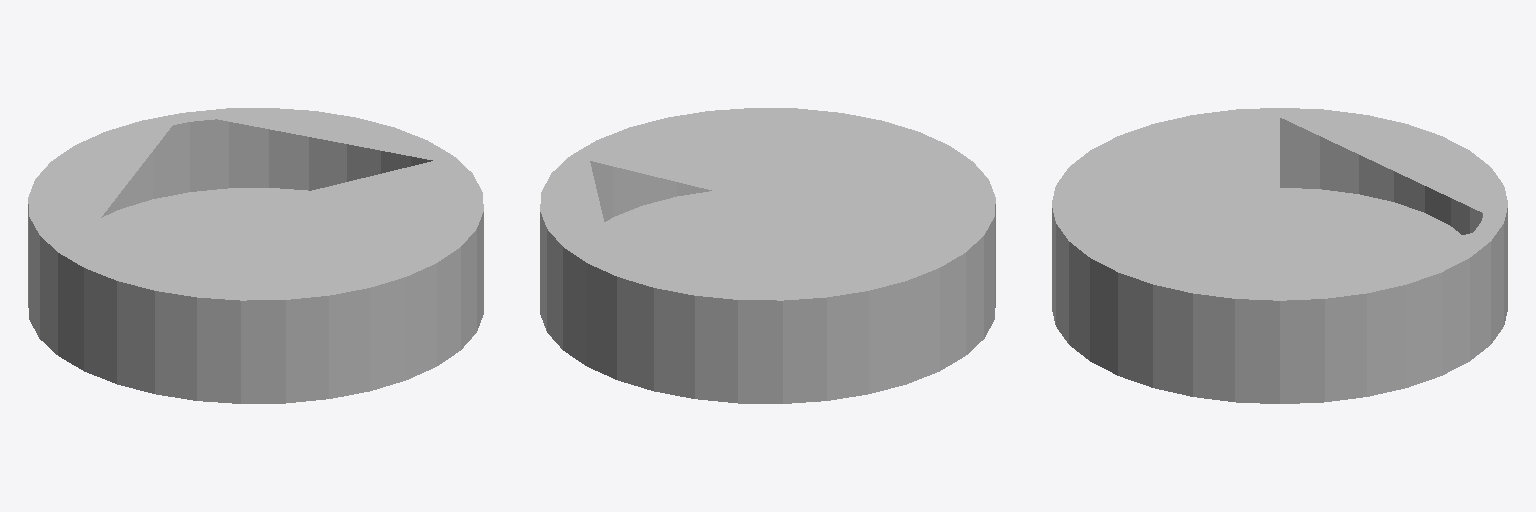
Rendered from petriSchaal_Inhoud.obj.
3 renders of one model, left to right at view 1: azimuth 30°, elevation 25°; view 2: azimuth 150°, elevation 25°; view 3: azimuth 270°, elevation 25°, orthographic.
Visible parts, largest first — view 1: Cylinder, Cylinder.001_Cylinder.002; view 2: Cylinder, Cylinder.001_Cylinder.002; view 3: Cylinder, Cylinder.001_Cylinder.002.
Part boxes in pixels (x1,y1,x2,y2): Cylinder: (28,108,483,403); Cylinder.001_Cylinder.002: (78,188,307,247); Cylinder: (540,108,995,403); Cylinder.001_Cylinder.002: (605,191,944,273); Cylinder: (1052,108,1507,403); Cylinder.001_Cylinder.002: (1280,188,1462,290).
Bounding box in the file's own units: 2 × 0.5 × 2.